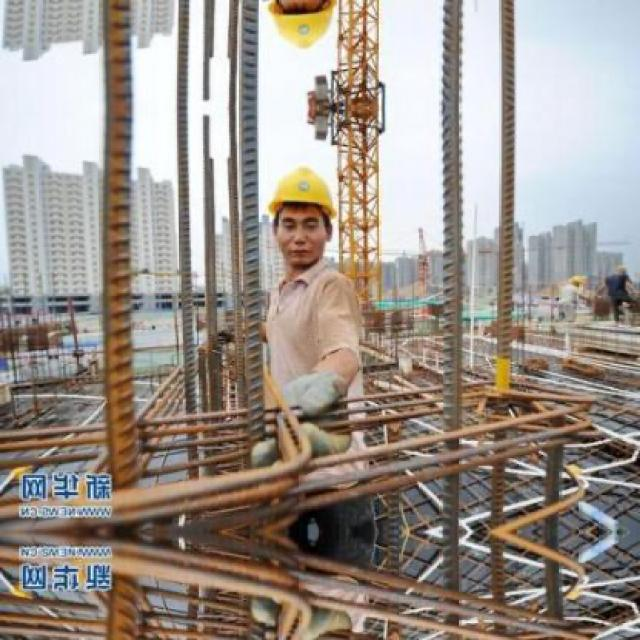helmet: (260, 153, 343, 273), (259, 0, 343, 65)
